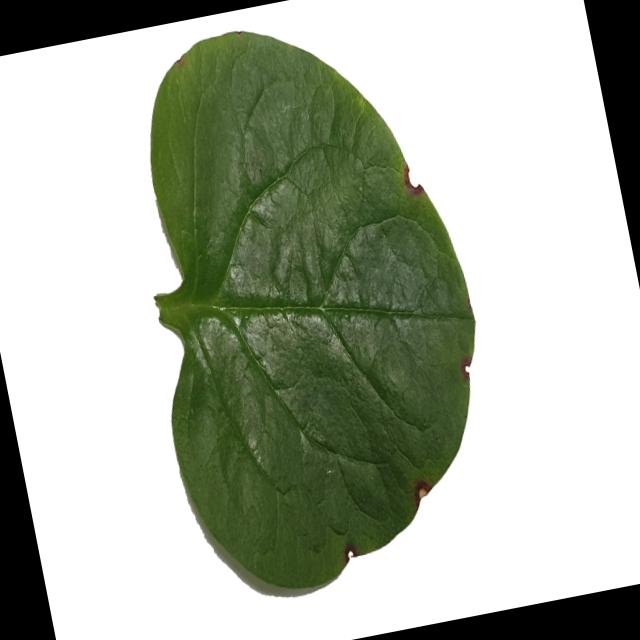Medicinal-Basale: (95, 0, 521, 616)
